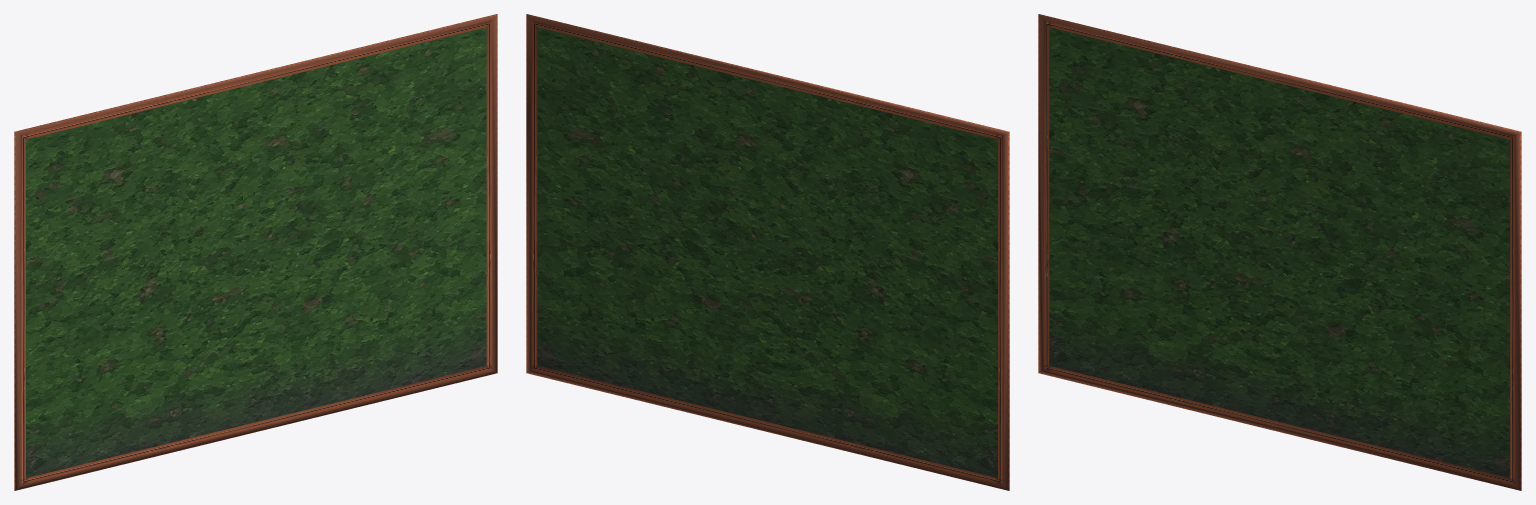
File: pm-panel.glb
The picture shows the model from 3 angles, left to right: view 1: azimuth 30°, elevation 25°; view 2: azimuth 150°, elevation 25°; view 3: azimuth 330°, elevation 25°; orthographic projection.
Parts seen in each view (by area): view 1: Panel; view 2: Panel; view 3: Panel.
Part boxes in pixels (x1,y1,x2,y2): Panel: (14, 14, 497, 490); Panel: (526, 14, 1009, 490); Panel: (1038, 14, 1521, 490).
Size of the model in its own units: 8.26 by 5.86 by 0.0212.
2 materials, 2 textured.
